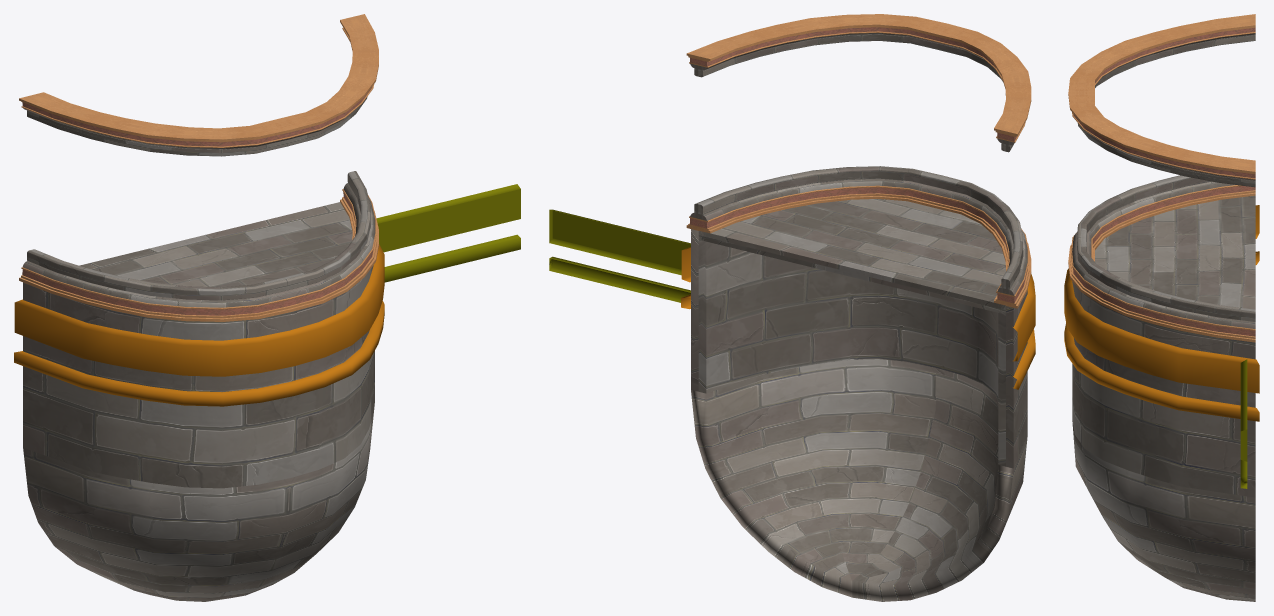
File: balcony_import_work_1.obj
3 renders of one model, left to right at view 1: azimuth 30°, elevation 25°; view 2: azimuth 150°, elevation 25°; view 3: azimuth 270°, elevation 25°, orthographic. The views are drawn at different scales.
Visible parts, largest first — view 1: group13 polySurface933polySurface920polySurface928, group13 polySurface1095, group13 polySurface1089, group13 floor_half_round13, group13 gold_trim82, group13 polySurface1106, polySurface1086 group13, group13 polySurface1100, group13 polySurface1088, group13 polySurface1093, group13 polySurface1092, group13 polySurface1101 (+5 smaller); view 2: group13 polySurface1095, group13 polySurface933polySurface920polySurface928, group13 floor_half_round13, group13 gold_trim82, group13 polySurface1100, group13 polySurface1093, group13 polySurface1106, group13 polySurface1089, polySurface1086 group13, group13 polySurface1103, group13 polySurface1096, group13 polySurface1087 (+5 smaller); view 3: group13 polySurface933polySurface920polySurface928, group13 polySurface1095, group13 floor_half_round13, group13 polySurface1089, group13 polySurface1100, group13 polySurface1106, group13 polySurface1093, polySurface1086 group13, group13 polySurface1103, group13 polySurface1099, group13 polySurface1088, group13 polySurface1087 (+13 smaller).
Part boxes in pixels (<box>): group13 polySurface933polySurface920polySurface928: <box>23,265,374,488</box>; group13 polySurface1095: <box>23,406,374,601</box>; group13 polySurface1089: <box>14,244,384,406</box>; group13 floor_half_round13: <box>79,202,352,287</box>; group13 gold_trim82: <box>376,184,520,282</box>; group13 polySurface1106: <box>19,92,291,142</box>; polySurface1086 group13: <box>27,249,287,300</box>; group13 polySurface1100: <box>278,14,378,131</box>; group13 polySurface1088: <box>22,261,289,307</box>; group13 polySurface1093: <box>283,171,370,290</box>; group13 polySurface1092: <box>19,275,291,321</box>; group13 polySurface1101: <box>27,110,287,156</box>; group13 polySurface1095: <box>691,359,1027,601</box>; group13 polySurface933polySurface920polySurface928: <box>691,229,1027,468</box>; group13 floor_half_round13: <box>698,199,1005,314</box>; group13 gold_trim82: <box>549,209,690,302</box>; group13 polySurface1100: <box>686,14,947,61</box>; group13 polySurface1093: <box>694,166,942,214</box>; group13 polySurface1106: <box>934,23,1031,136</box>; group13 polySurface1089: <box>681,247,1035,389</box>; polySurface1086 group13: <box>938,175,1023,289</box>; group13 polySurface1103: <box>690,178,938,220</box>; group13 polySurface1096: <box>694,34,938,77</box>; group13 polySurface1087: <box>690,187,936,228</box>; group13 polySurface933polySurface920polySurface928: <box>1072,281,1255,497</box>; group13 polySurface1095: <box>1072,421,1255,601</box>; group13 floor_half_round13: <box>1095,195,1255,309</box>; group13 polySurface1089: <box>1064,205,1259,421</box>; group13 polySurface1100: <box>1068,93,1255,174</box>; group13 polySurface1106: <box>1068,14,1255,92</box>; group13 polySurface1093: <box>1077,237,1255,321</box>; polySurface1086 group13: <box>1077,175,1211,241</box>; group13 polySurface1103: <box>1072,247,1255,328</box>; group13 polySurface1099: <box>1068,259,1255,342</box>; group13 polySurface1088: <box>1072,181,1234,250</box>; group13 polySurface1087: <box>1073,268,1255,336</box>.
Bounding box in the file's own units: 15.48 × 15.67 × 5.63.
